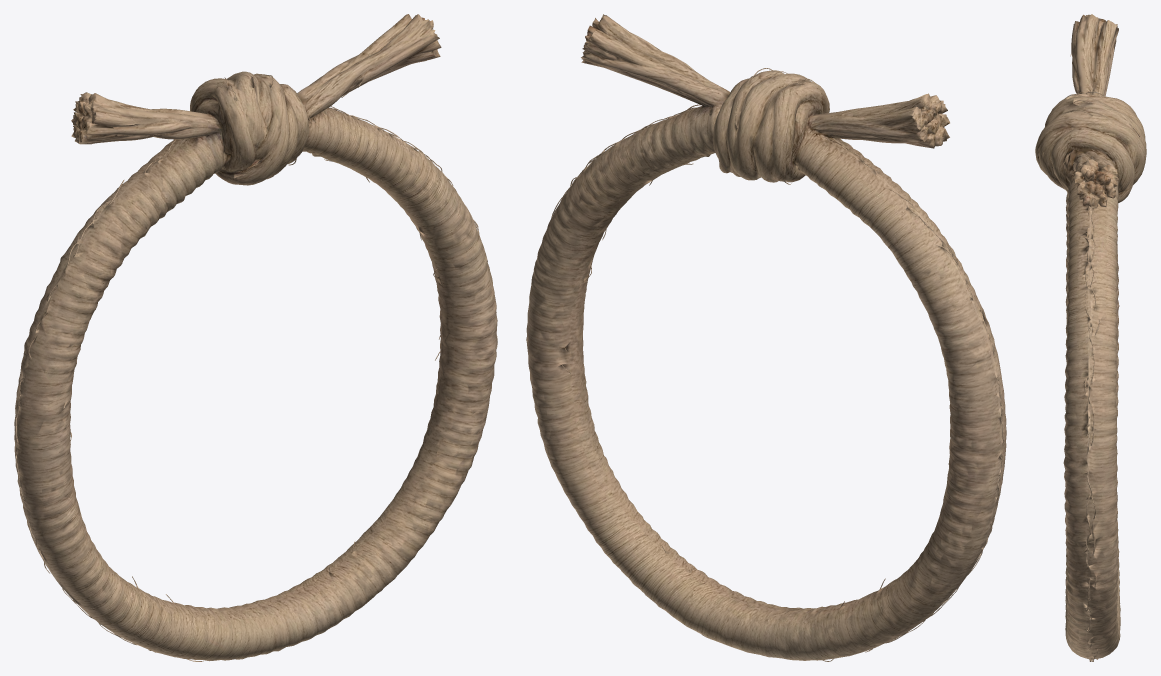
Rendered from fl-ribbon-jute-twine.glb.
3 views of the same model, side by side, from view 1: azimuth 30°, elevation 25°; view 2: azimuth 150°, elevation 25°; view 3: azimuth 270°, elevation 25° (orthographic). The views are drawn at different scales.
Parts seen in each view (by area): view 1: node_0; view 2: node_0; view 3: node_0.
Part boxes in pixels (left/top/right/bottom): node_0: left=14, top=14, right=497, bottom=661; node_0: left=526, top=14, right=1006, bottom=661; node_0: left=1035, top=14, right=1146, bottom=661.
Bounding box in the file's own units: 0.8676 × 1.04 × 0.1907.
Materials: 1 (1 with a texture image).
